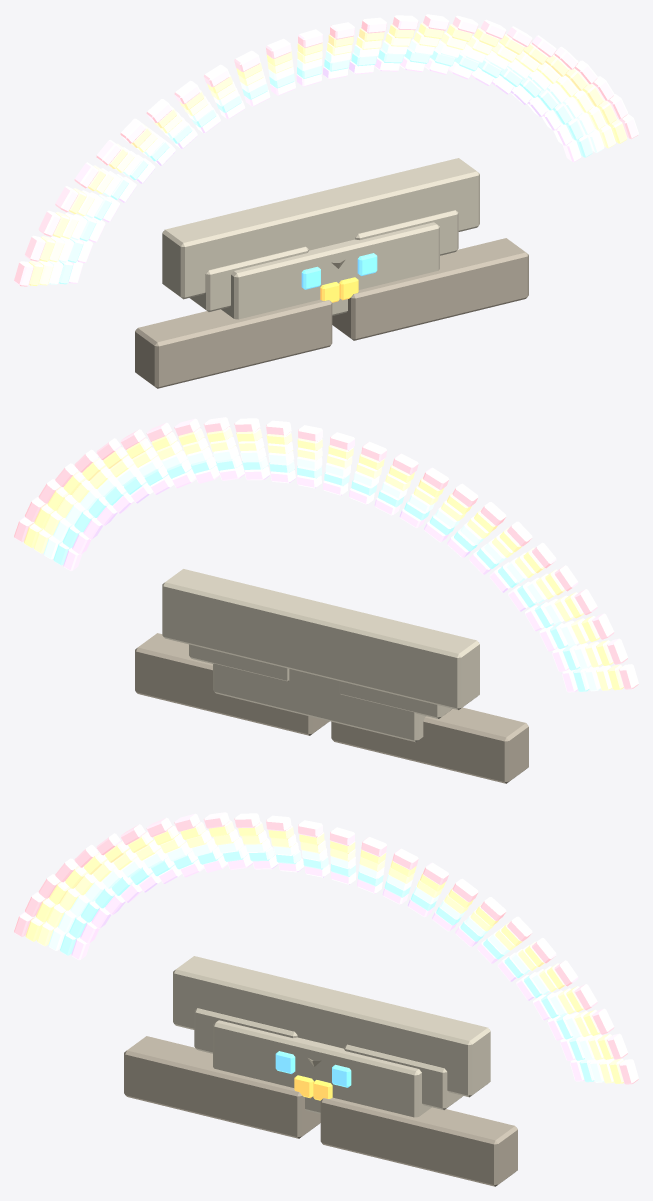
File: origami_boat_rainbow.glb
The picture shows the model from 3 angles, top to bottom: view 1: azimuth 30°, elevation 25°; view 2: azimuth 150°, elevation 25°; view 3: azimuth 330°, elevation 25°; orthographic projection.
Visible parts, largest first — view 1: VoxelRainbow_Merged, DawnCloudLeft_Merged, DawnCloudRight_Merged; view 2: VoxelRainbow_Merged, DawnCloudLeft_Merged, DawnCloudRight_Merged; view 3: VoxelRainbow_Merged, DawnCloudLeft_Merged, DawnCloudRight_Merged.
Part boxes in pixels (<box>): VoxelRainbow_Merged: <box>14,14,638,286</box>; DawnCloudLeft_Merged: <box>135,196,458,388</box>; DawnCloudRight_Merged: <box>190,158,528,340</box>; VoxelRainbow_Merged: <box>14,417,638,692</box>; DawnCloudLeft_Merged: <box>189,601,528,783</box>; DawnCloudRight_Merged: <box>135,569,452,735</box>; VoxelRainbow_Merged: <box>14,812,638,1084</box>; DawnCloudLeft_Merged: <box>124,956,462,1138</box>; DawnCloudRight_Merged: <box>194,995,517,1186</box>.
Size of the model in its own units: 13.25 by 6.2 by 1.23.
